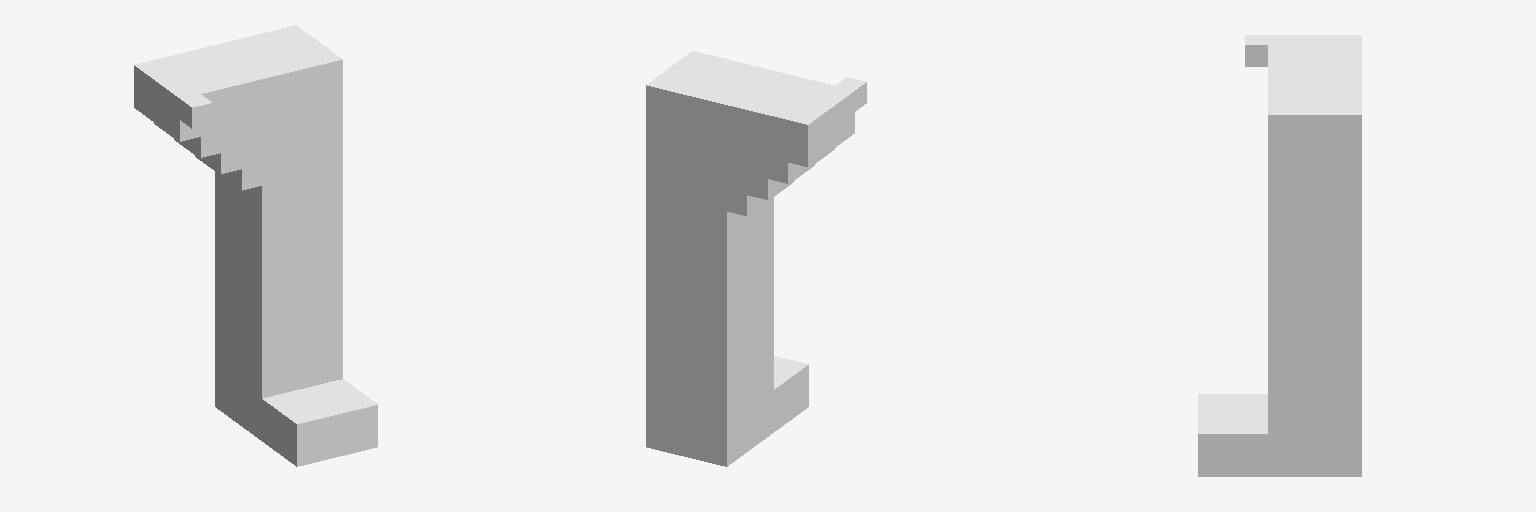
Rendered from civil3-0.obj.
The picture shows the model from 3 angles: view 1: azimuth 30°, elevation 25°; view 2: azimuth 150°, elevation 25°; view 3: azimuth 270°, elevation 25°; orthographic projection.
Visible parts, largest first — view 1: object 1; view 2: object 1; view 3: object 1.
Part boxes in pixels (left/top/right/bottom): object 1: left=134, top=25, right=377, bottom=466; object 1: left=646, top=51, right=866, bottom=466; object 1: left=1198, top=35, right=1361, bottom=476.
Bounding box in the file's own units: 0.8 × 1.7 × 0.7.